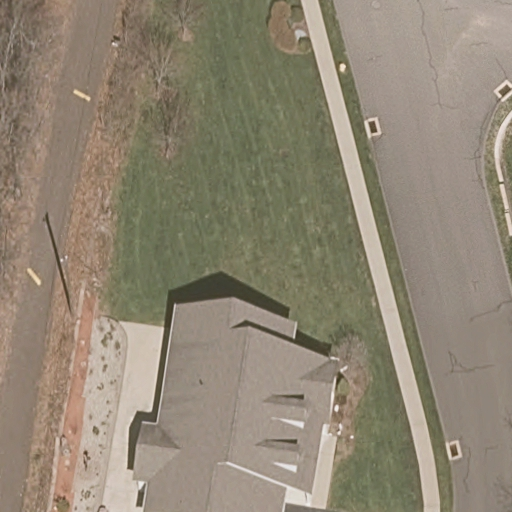DT: (55, 253, 76, 318)
